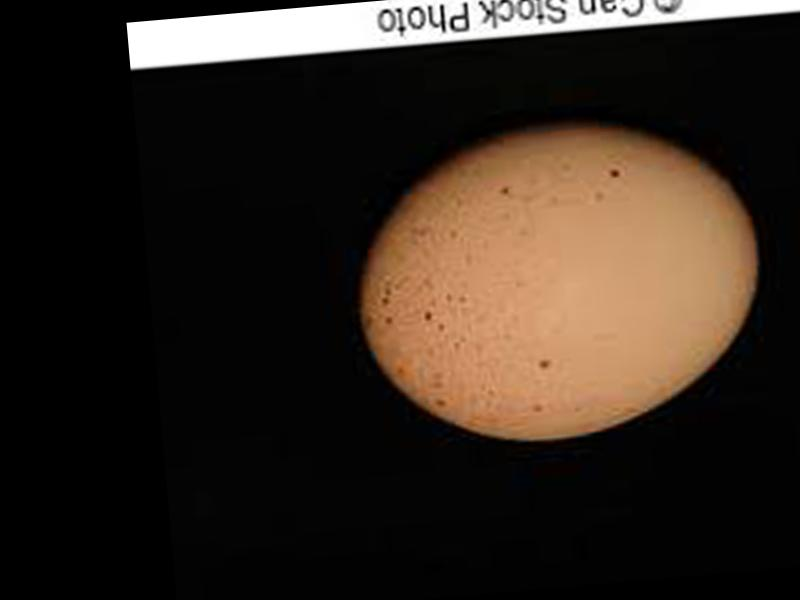Eggs: (348, 104, 772, 453)
